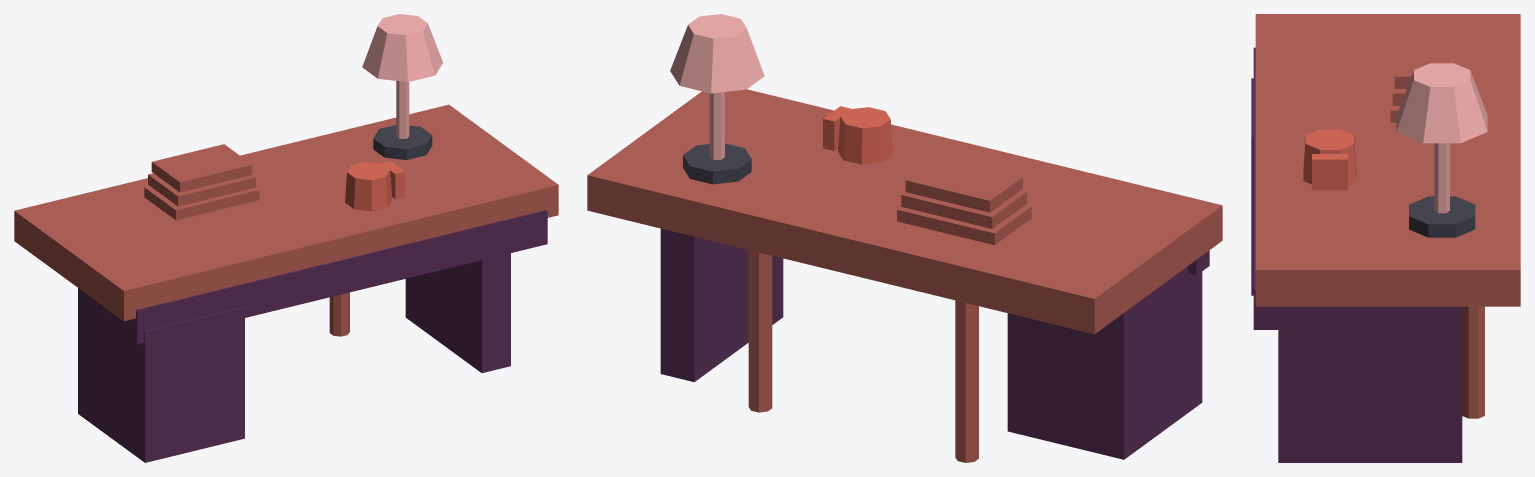
File: adjustable-desk.obj
3 views of the same model, side by side, from view 1: azimuth 30°, elevation 25°; view 2: azimuth 150°, elevation 25°; view 3: azimuth 270°, elevation 25° (orthographic). The views are drawn at different scales.
Visible parts, largest first — view 1: soft-chunky-desktop, left-storage-block, warm-front-apron, right-trestle-panel, faceted-lamp-shade, cozy-book-3, round-mug-body, cozy-book-1, soft-lamp-base, cozy-book-2, adjustable-right-lift, warm-lamp-neck; view 2: soft-chunky-desktop, left-storage-block, right-trestle-panel, faceted-lamp-shade, cozy-book-3, adjustable-right-lift, adjustable-left-lift, round-mug-body, cozy-book-1, cozy-book-2, soft-lamp-base, warm-lamp-neck (+1 smaller); view 3: soft-chunky-desktop, right-trestle-panel, faceted-lamp-shade, adjustable-right-lift, cozy-book-3, soft-lamp-base, round-mug-body, warm-front-apron, chunky-mug-handle, warm-lamp-neck, left-storage-block, cozy-book-2 (+1 smaller).
Part boxes in pixels (x1,y1,x2,y2): soft-chunky-desktop: [14, 104, 558, 321]; left-storage-block: [78, 288, 244, 462]; warm-front-apron: [125, 210, 547, 344]; right-trestle-panel: [405, 253, 510, 372]; faceted-lamp-shade: [362, 14, 442, 82]; cozy-book-3: [151, 144, 252, 192]; round-mug-body: [345, 162, 392, 211]; cozy-book-1: [144, 186, 259, 220]; soft-lamp-base: [373, 125, 432, 159]; cozy-book-2: [148, 173, 255, 206]; adjustable-right-lift: [329, 292, 349, 336]; warm-lamp-neck: [396, 81, 409, 138]; soft-chunky-desktop: [587, 89, 1222, 334]; left-storage-block: [1007, 266, 1202, 459]; right-trestle-panel: [660, 228, 783, 382]; faceted-lamp-shade: [670, 14, 764, 93]; cozy-book-3: [905, 156, 1022, 212]; adjustable-right-lift: [748, 250, 772, 412]; adjustable-left-lift: [955, 300, 978, 462]; round-mug-body: [838, 107, 893, 164]; cozy-book-1: [897, 205, 1031, 245]; cozy-book-2: [901, 190, 1027, 228]; soft-lamp-base: [683, 143, 751, 184]; warm-lamp-neck: [709, 92, 724, 159]; soft-chunky-desktop: [1255, 14, 1520, 306]; right-trestle-panel: [1278, 306, 1462, 462]; faceted-lamp-shade: [1396, 63, 1487, 143]; adjustable-right-lift: [1462, 306, 1484, 418]; cozy-book-3: [1394, 34, 1462, 88]; soft-lamp-base: [1409, 196, 1475, 237]; round-mug-body: [1303, 129, 1356, 184]; warm-front-apron: [1253, 47, 1280, 329]; chunky-mug-handle: [1312, 154, 1347, 190]; warm-lamp-neck: [1434, 143, 1449, 213]; left-storage-block: [1251, 78, 1253, 295]; cozy-book-2: [1392, 47, 1464, 105].
Bounding box in the file's own units: 2.7 × 1.81 × 1.2.
